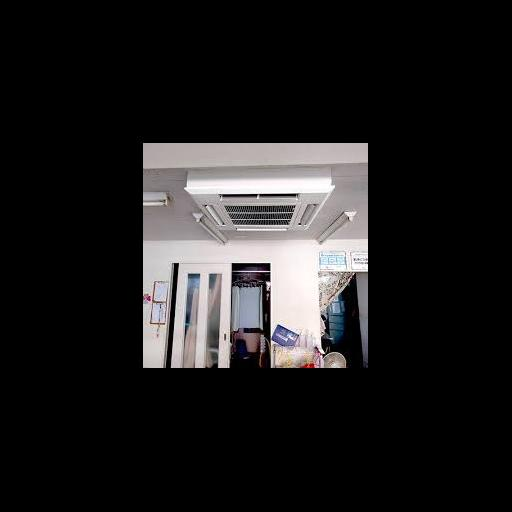4-way-ac: (185, 186, 335, 232)
